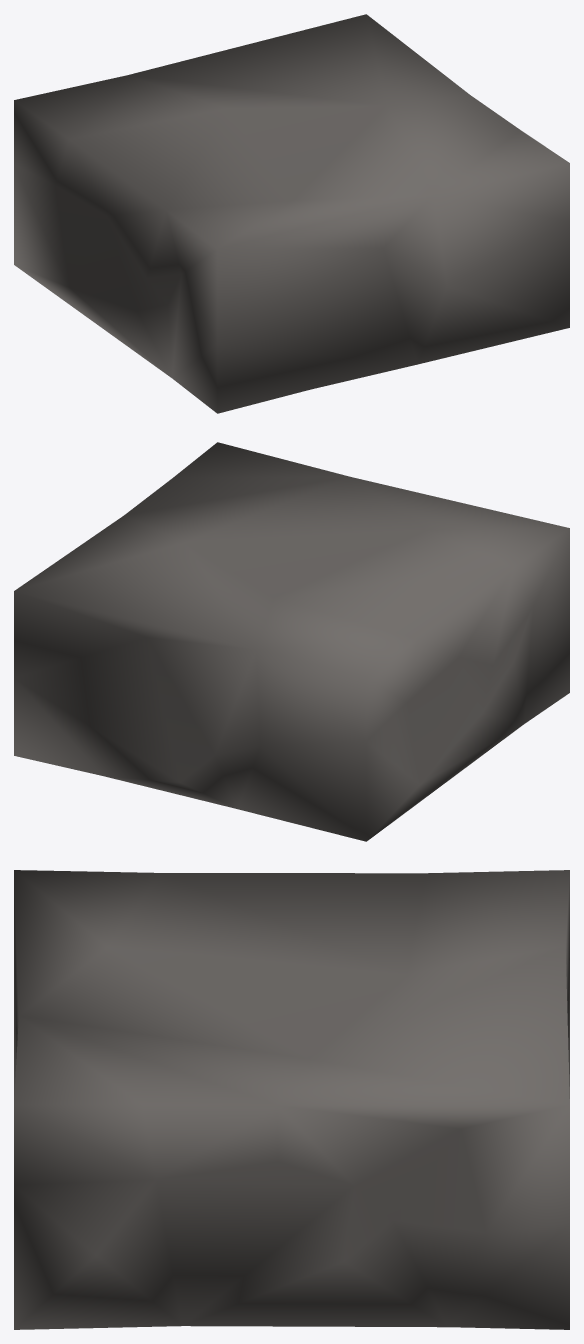
File: underrock_1.glb
3 views of the same model, one above another, from view 1: azimuth 30°, elevation 25°; view 2: azimuth 150°, elevation 25°; view 3: azimuth 270°, elevation 25° (orthographic). The views are drawn at different scales.
Parts seen in each view (by area): view 1: underrock_1; view 2: underrock_1; view 3: underrock_1.
Part boxes in pixels (x1,y1,x2,y2): underrock_1: (14,14,569,413); underrock_1: (14,442,569,841); underrock_1: (14,870,569,1329).
Bounding box in the file's own units: 2.8 × 1.25 × 2.8.
Materials: 1 (1 with a texture image).
